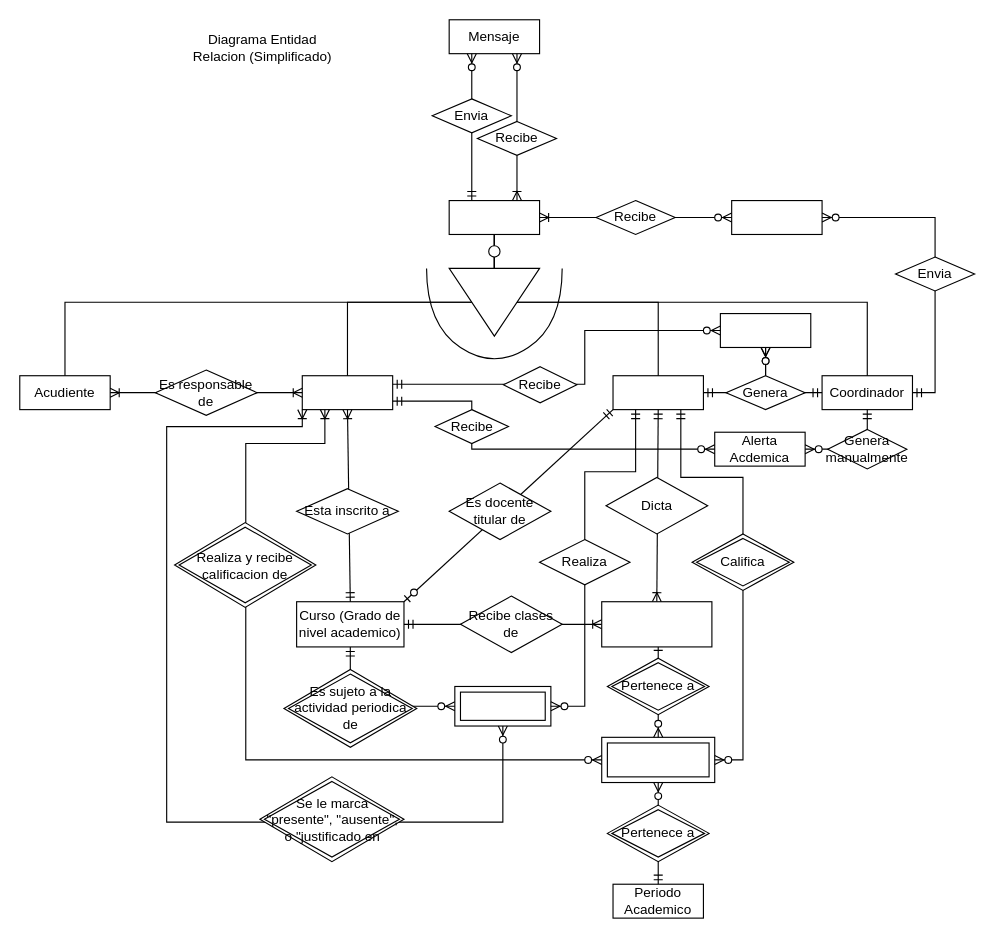
Image size: 994x938. Some labels were removed from this diagram. The shapes that lost their labels are listed below. From the top down, each one's centre as x and y in pixels, then its label:
At point (494, 216): "Usuario".
At point (776, 216): "Notificacion".
At point (765, 329): "Observacion".
At point (347, 392): "Estudiante".
At point (657, 392): "Docente".
At point (656, 624): "Asignatura".
At point (502, 705): "Asistencia Diaria".
At point (658, 759): "Actividad con calificacion".
